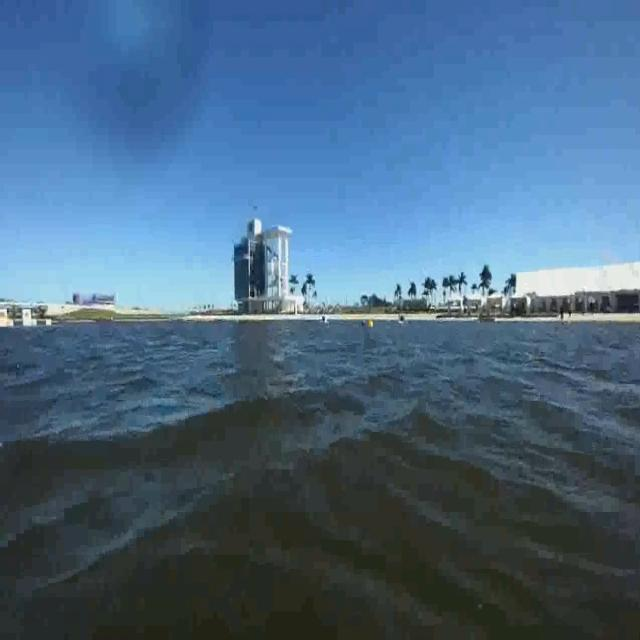yellow-buoy: (367, 318, 374, 329)
